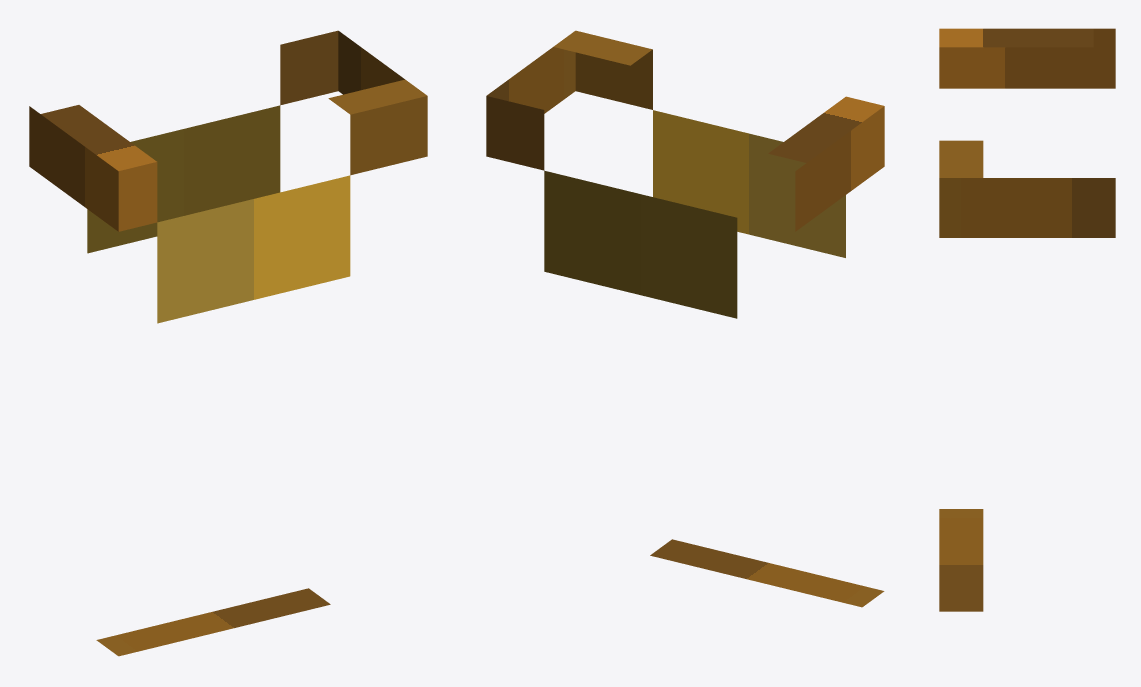
The model's file is sl_bling_chain.glb.
3 renders of one model, left to right at view 1: azimuth 30°, elevation 25°; view 2: azimuth 150°, elevation 25°; view 3: azimuth 270°, elevation 25°, orthographic.
Parts seen in each view (by area): view 1: bb_bling_chain; view 2: bb_bling_chain; view 3: bb_bling_chain.
Part boxes in pixels (x1,y1,x2,y2): bb_bling_chain: (29,30,427,656); bb_bling_chain: (486,30,884,607); bb_bling_chain: (939,28,1115,611).
Size of the model in its own units: 0.5312 by 0.7812 by 0.2812.
Materials: 1 (1 with a texture image).
